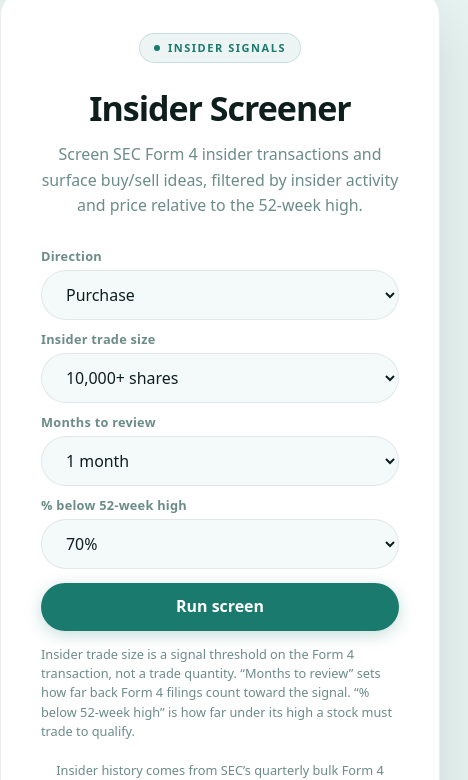
Test: InsiderScreener copy › shows the data-through date from the response after a screen
Step 1. Click the button "Run screen" → (220, 607), box [41, 583, 399, 631]
(page scrolled)
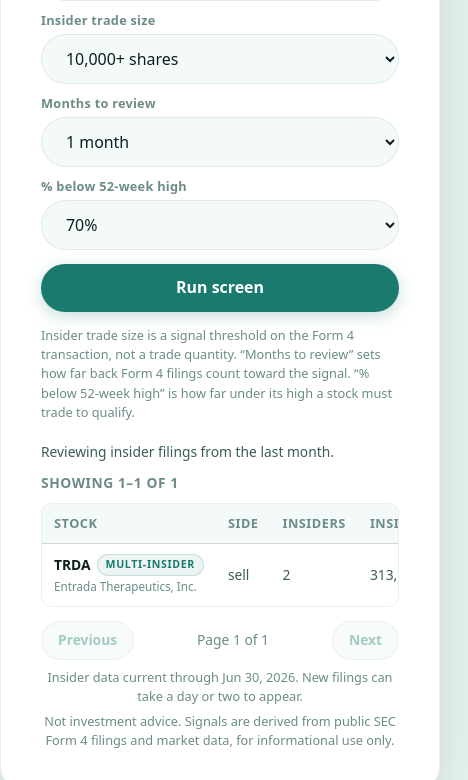
expect the text with id "lblScreenerFreshness" shows "Insider data current through Jun 30, 2026.": met, box [48, 668, 392, 705]
